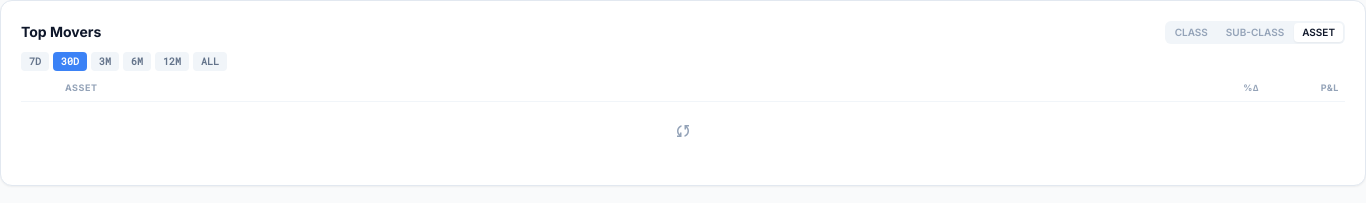
Test: Movers card › level control is hidden on ALL tab
The width and height of the screenshot is (1366, 203).
//  ALL tab
Click the button "ALL". click: (210, 62)
box: [193,52,227,71]
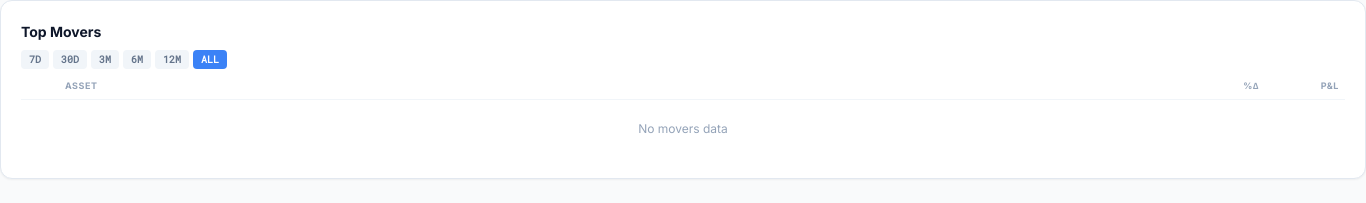
Check: the button "CLASS" is gone
Check: the button "SUB-CLASS" is gone
